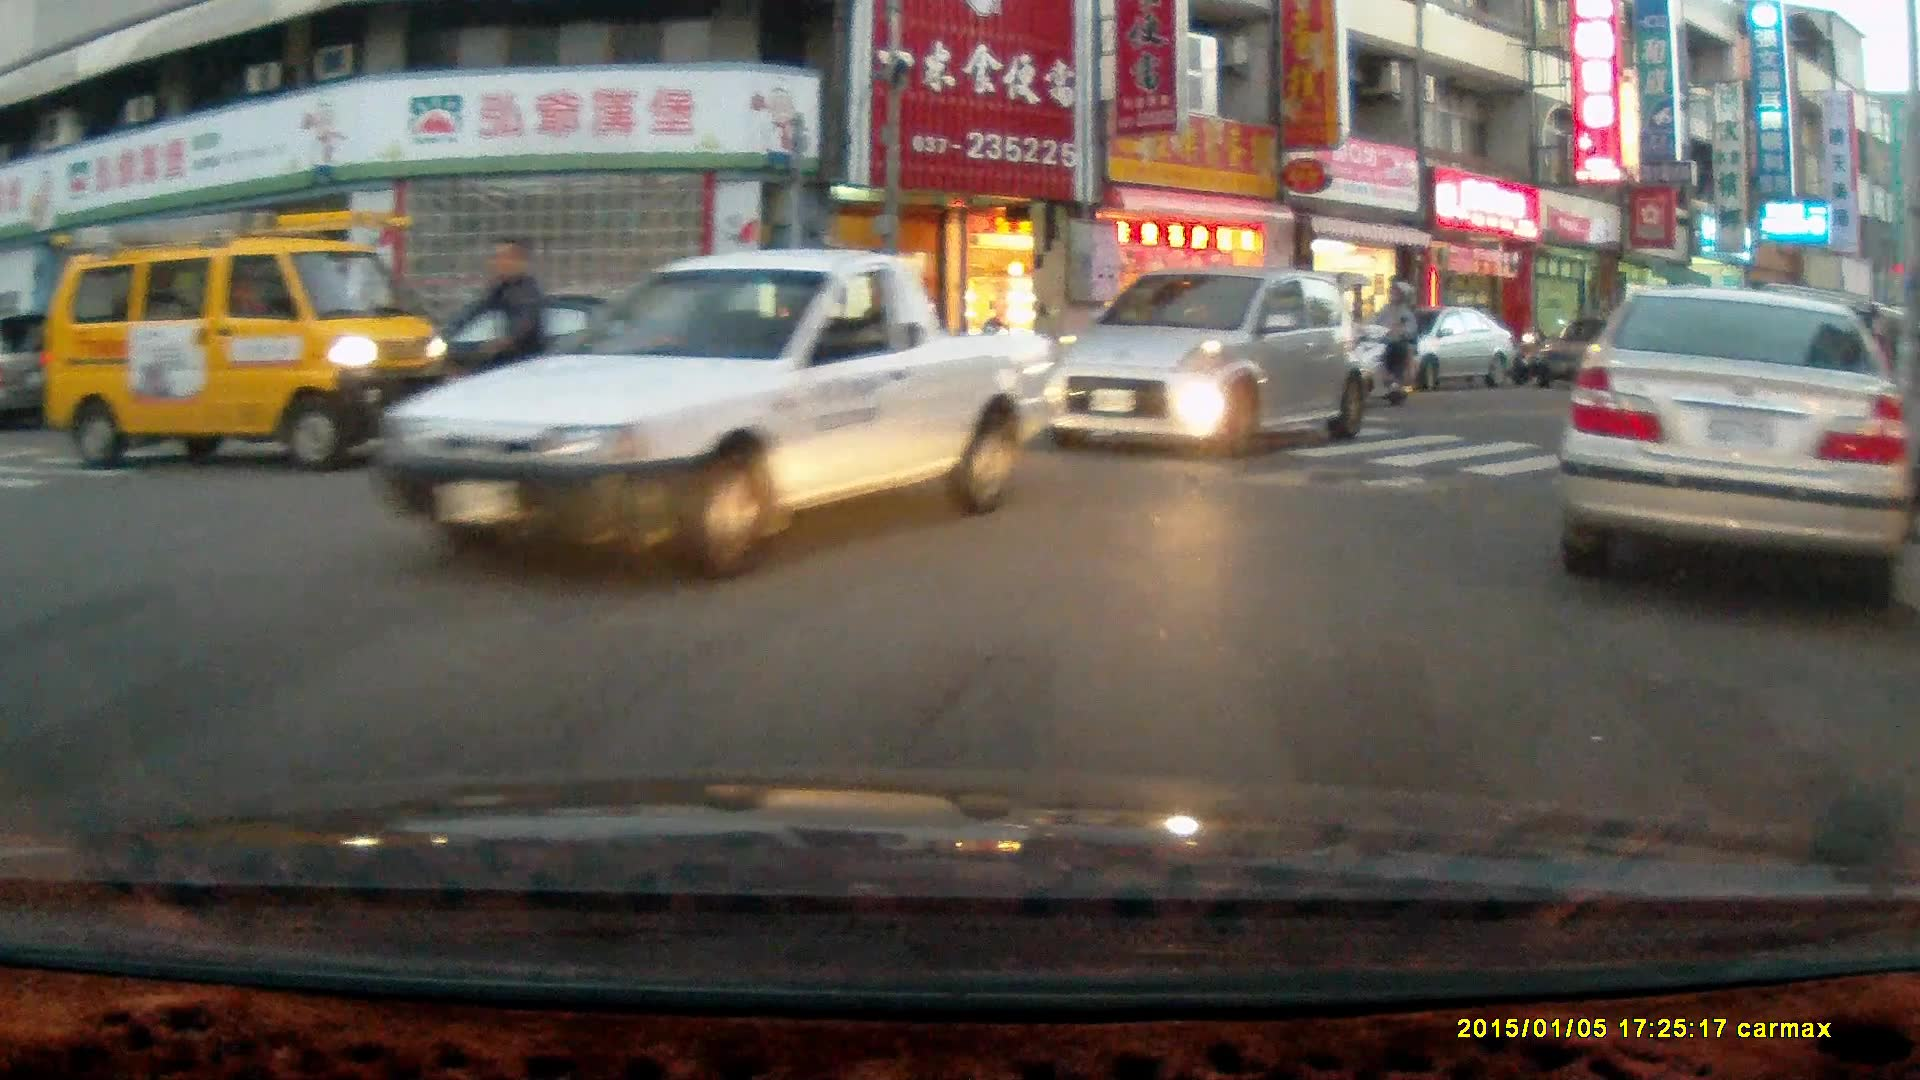rider: (397, 234, 597, 485), (1354, 274, 1420, 409)
vehicle: (362, 241, 1057, 585), (1557, 281, 1901, 617), (37, 206, 458, 472), (1037, 264, 1371, 458), (386, 289, 699, 422), (1374, 304, 1515, 386)
